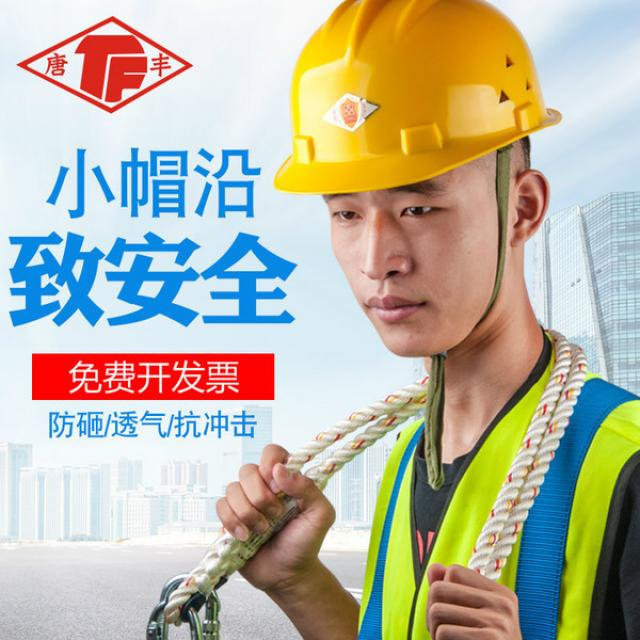Reflective-Jacket: (358, 358, 637, 636)
Safety-Helmet: (275, 3, 563, 195)
